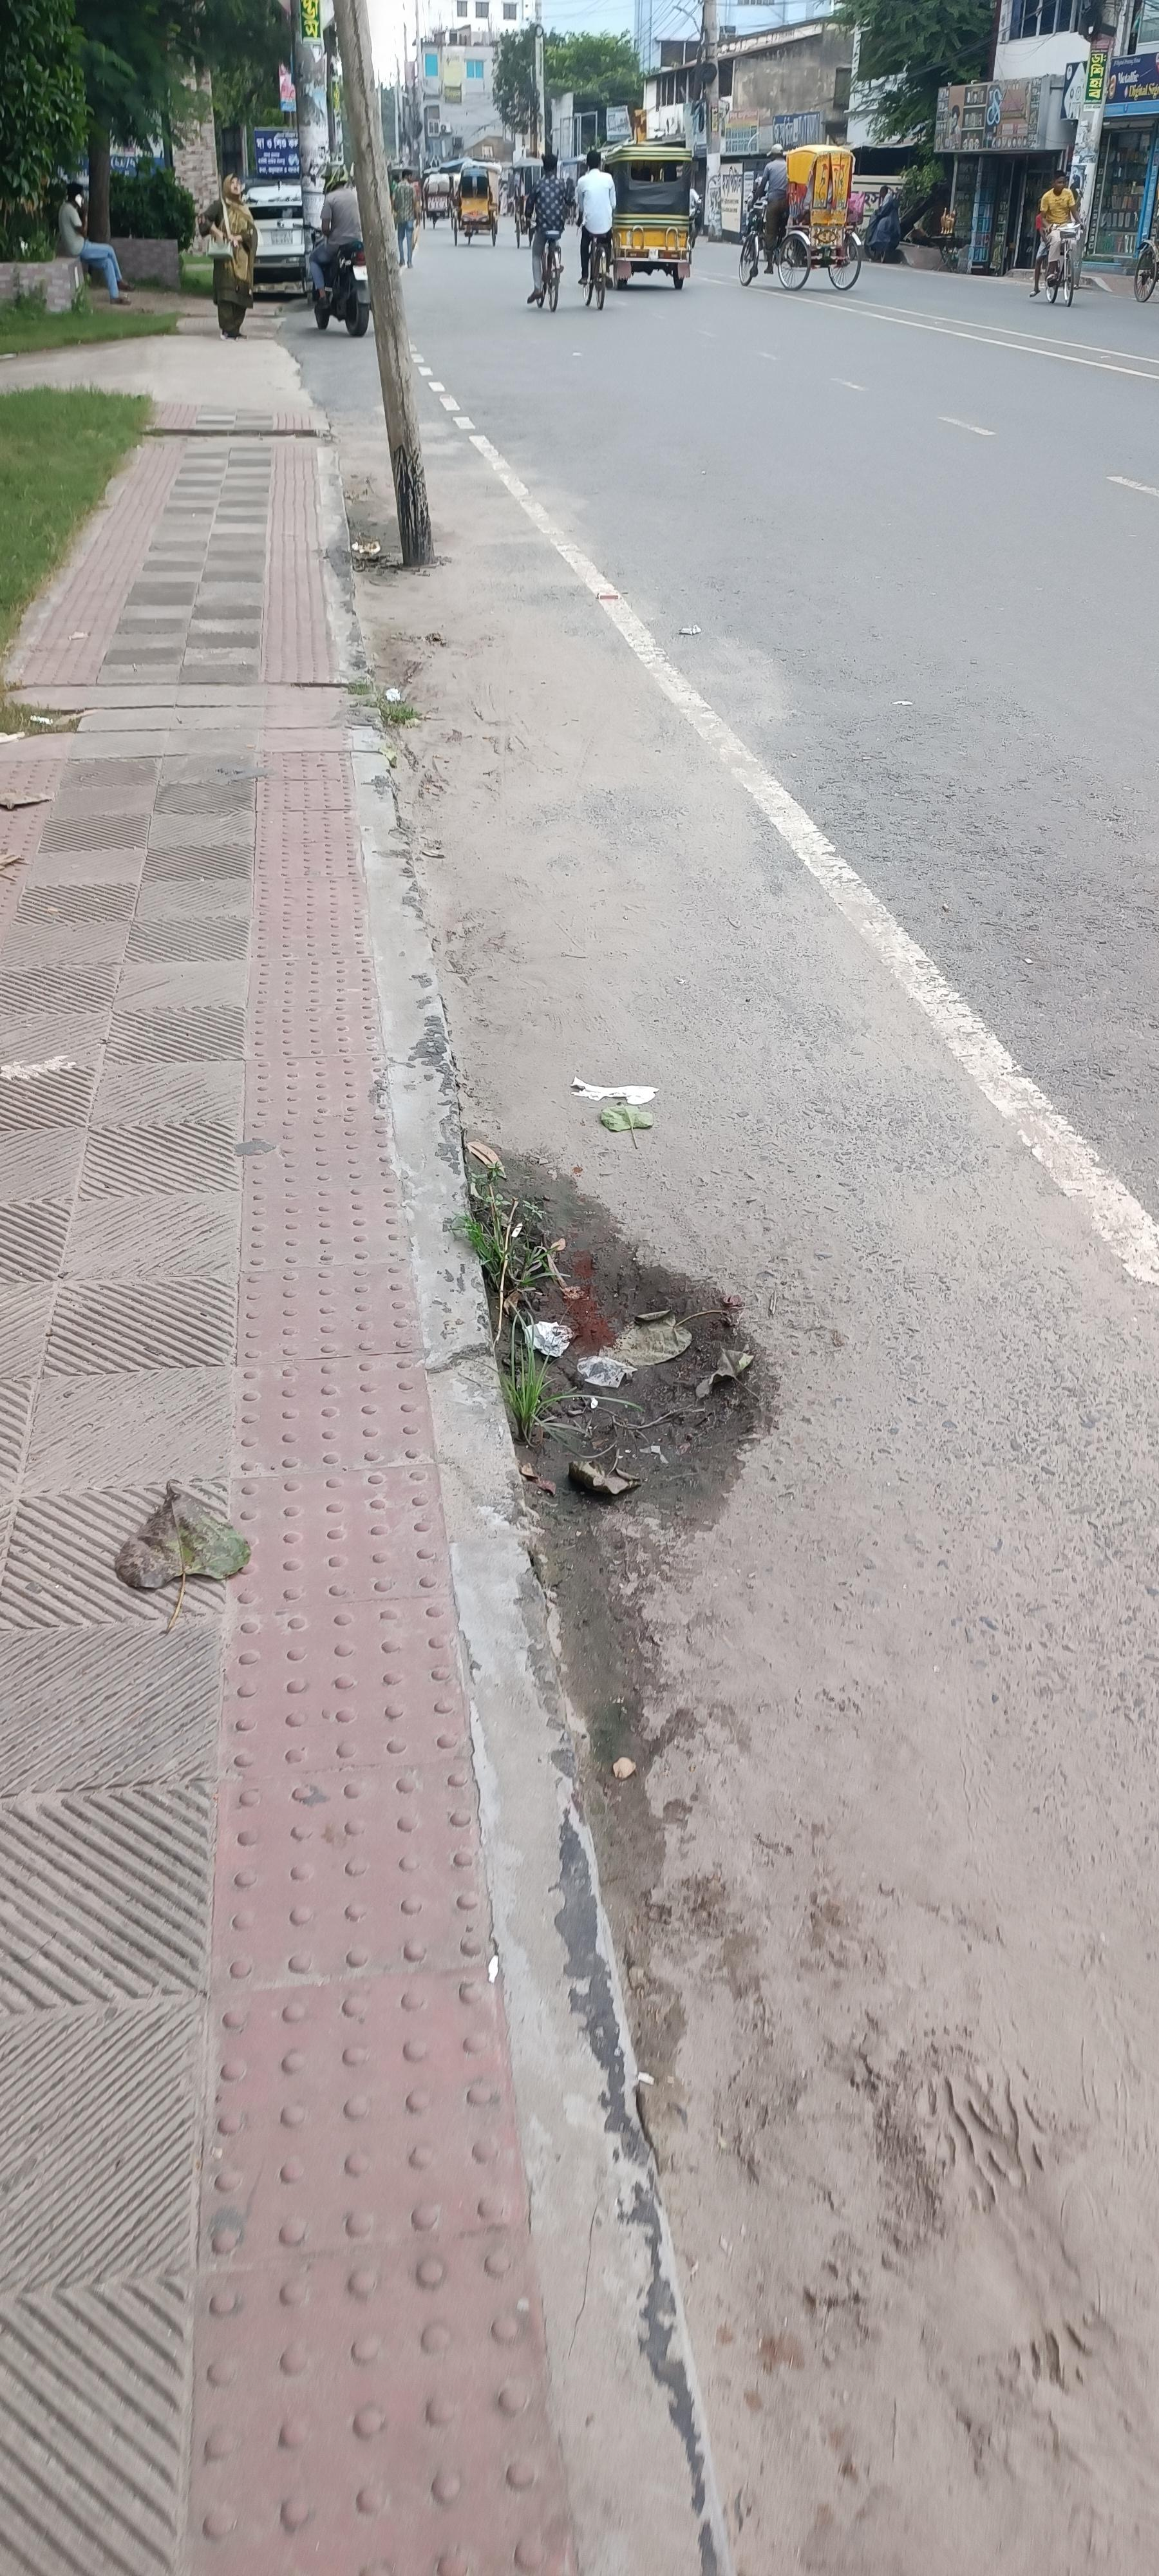Fallen-tree: (304, 227, 371, 337)
Garbage-bin: (197, 174, 259, 340), (57, 181, 131, 304), (524, 153, 575, 304), (310, 166, 361, 302), (573, 148, 617, 287), (1038, 171, 1082, 283), (755, 145, 791, 271), (865, 186, 903, 263), (394, 168, 422, 268)
Light-pole: (333, 2, 435, 568)
Pothole: (3, 284, 722, 2571)
